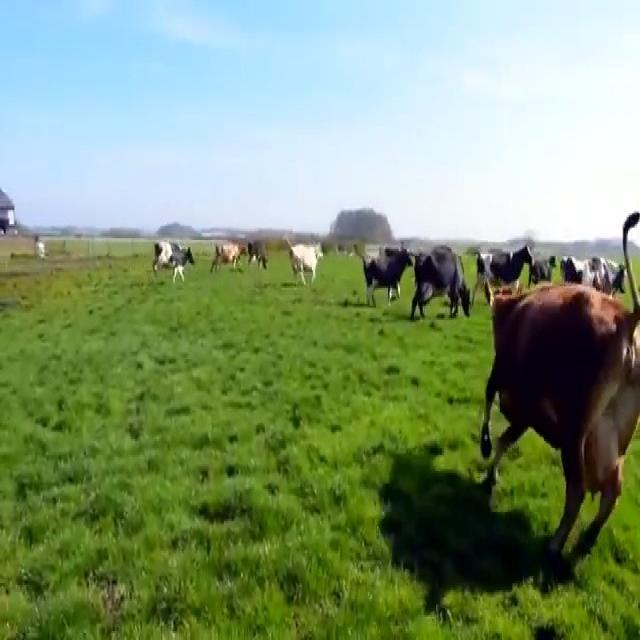COW: (478, 277, 638, 571), (470, 212, 536, 294), (352, 225, 412, 308), (417, 242, 475, 326), (281, 233, 328, 287), (150, 236, 198, 276), (212, 226, 243, 280), (247, 235, 271, 275)
